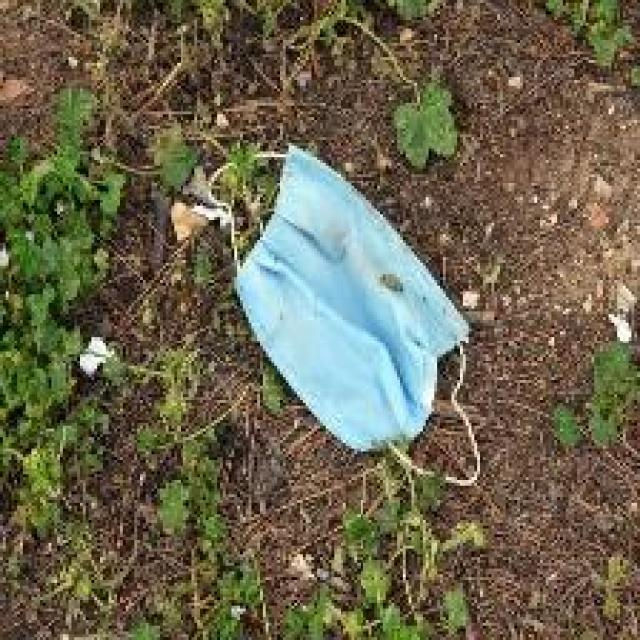Mask: (183, 98, 546, 474)
